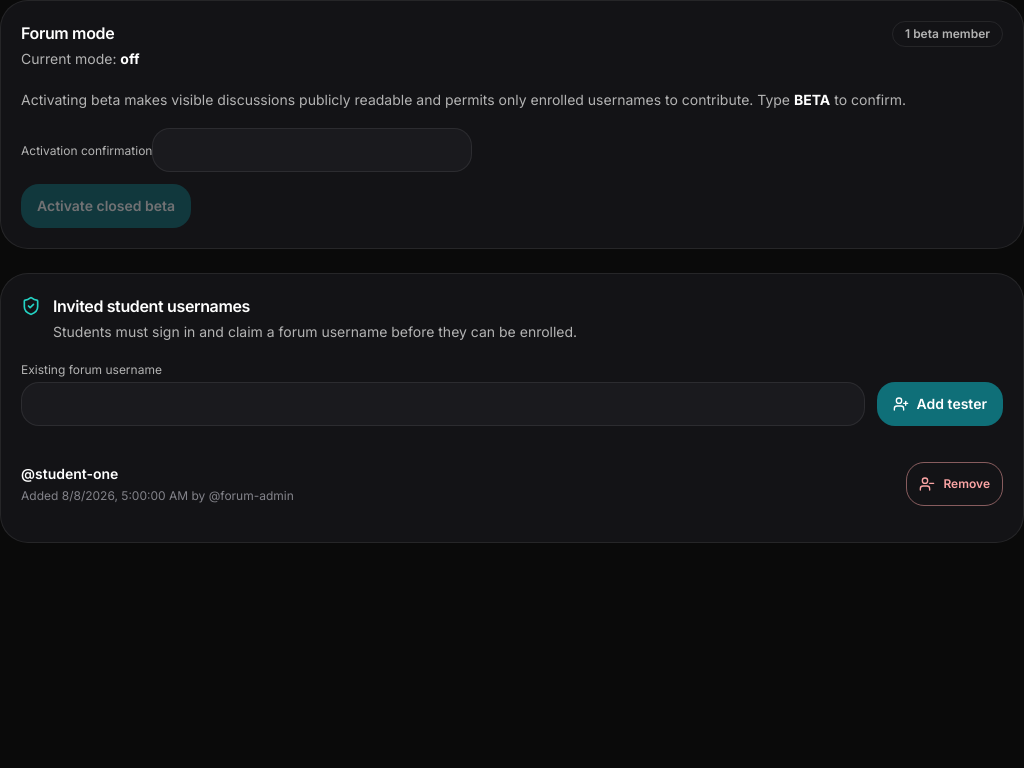
Test: forum closed-beta admin controls › enrolls by existing username, reloads the list and activates only after BETA confirmation
This screenshot has width=1024, height=768.
expect the text "@student-one" is shown: met, box [21,465,118,482]
Type "  student-two  " into the field labelled "Existing forum username" at (443, 404), box [21,382,865,426]
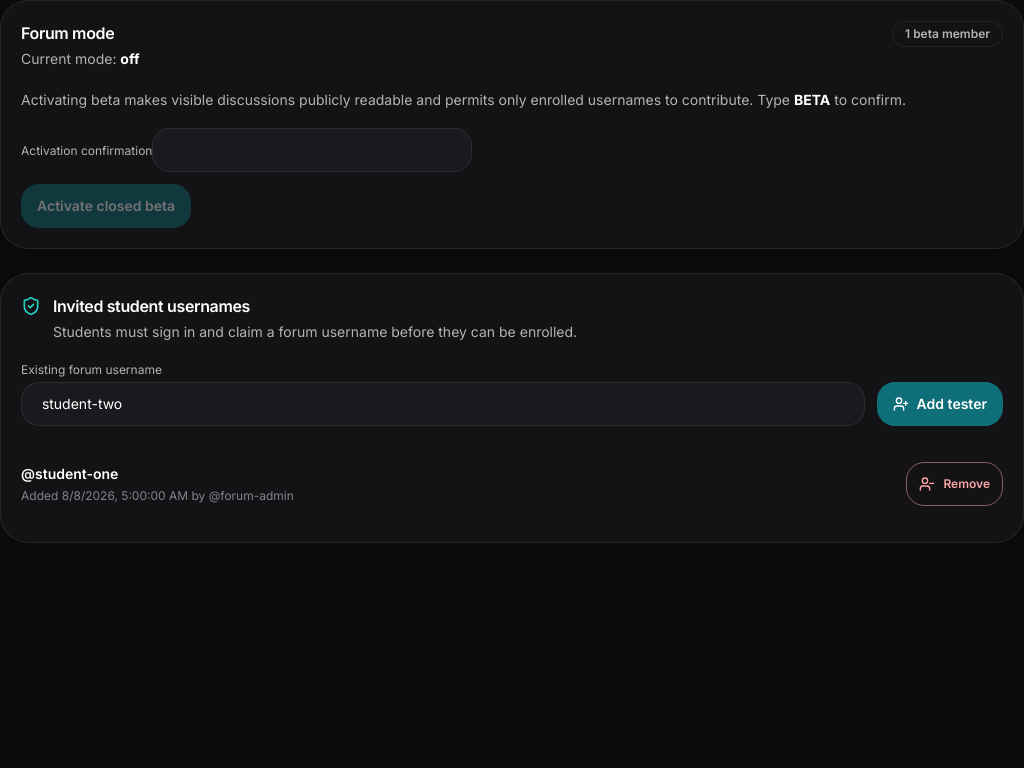
Click the button "Add tester" at (940, 404), box [877,382,1003,426]
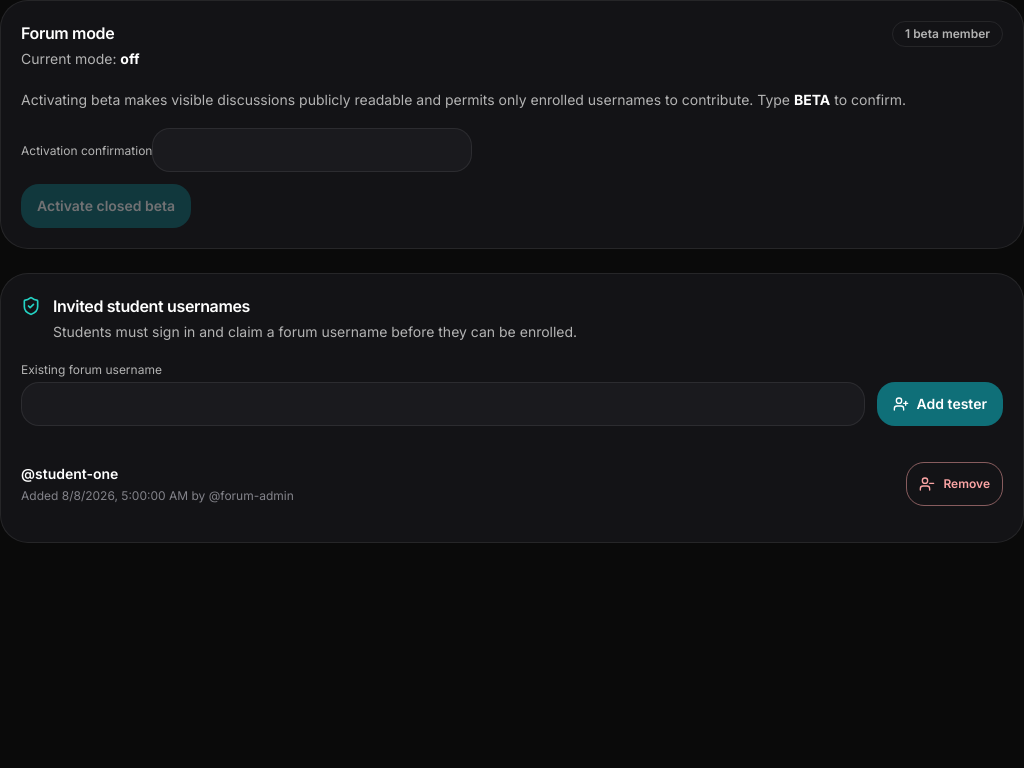
Type "BETA" into the field labelled "Activation confirmation" at (312, 150), box [152,128,472,172]
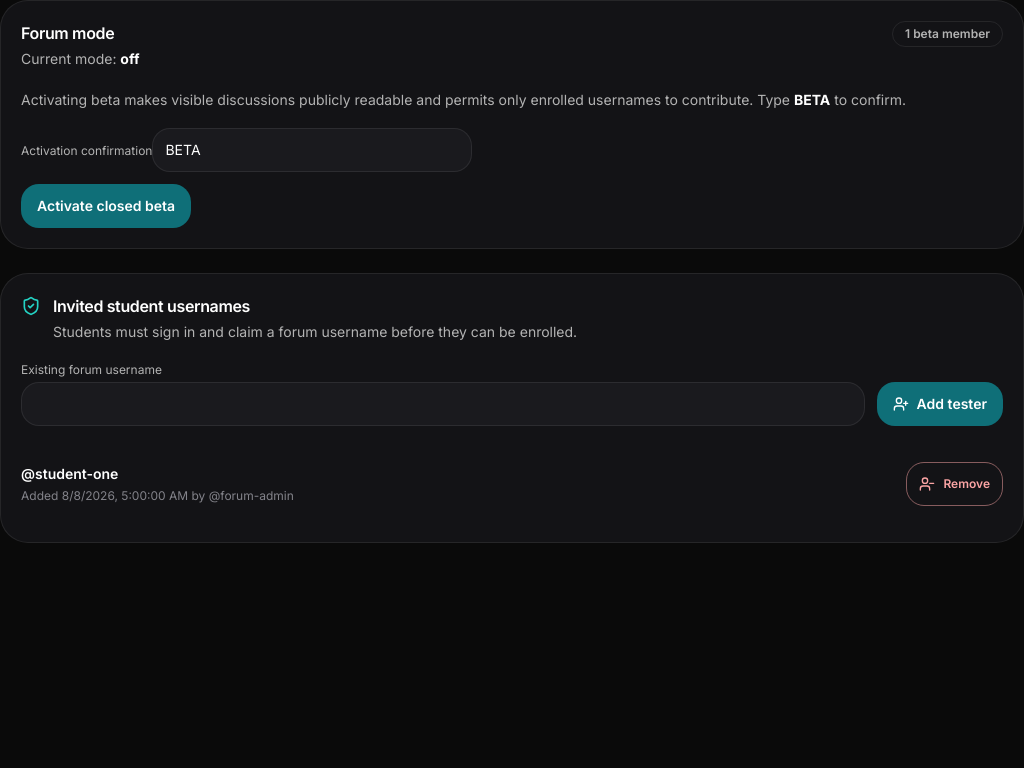
Click the button "Activate closed beta" at (106, 206), box [21,184,191,228]
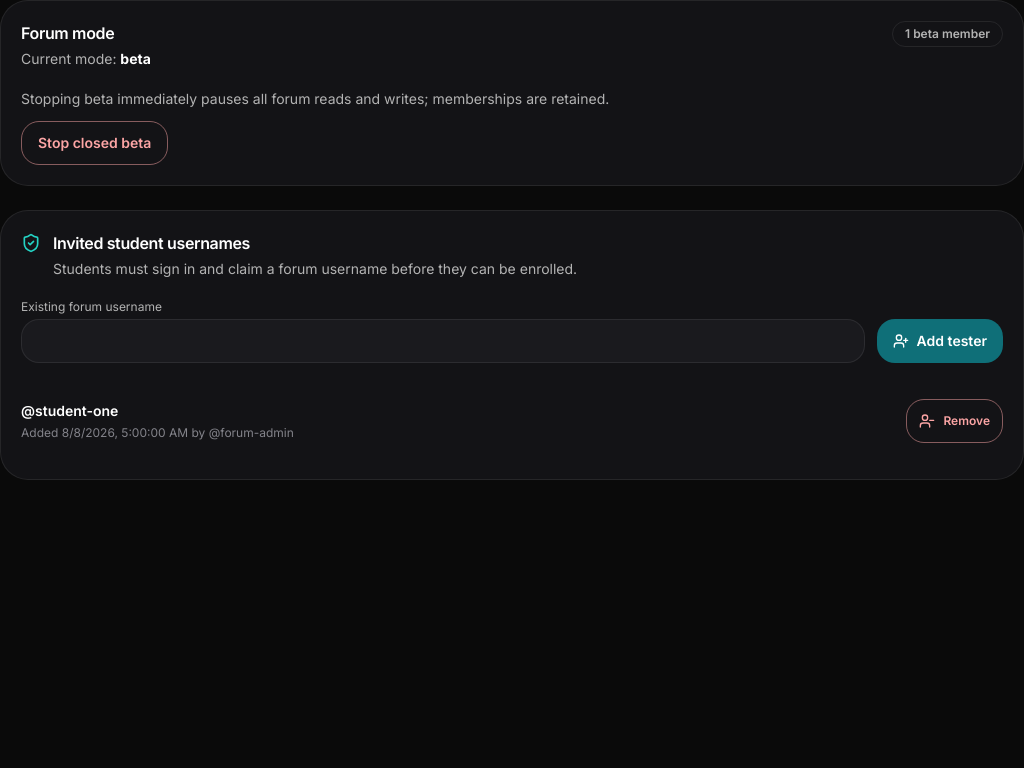
expect the text "Current mode: beta" is shown: met, box [21,49,151,69]
